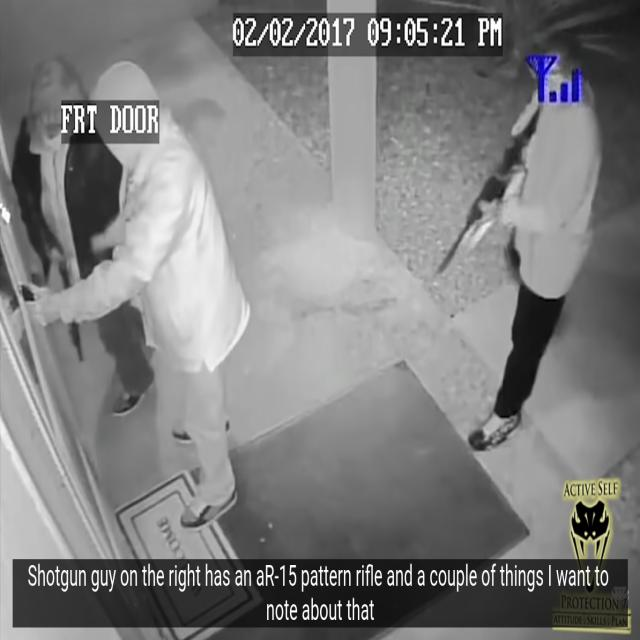FRifle: (431, 102, 545, 289)
